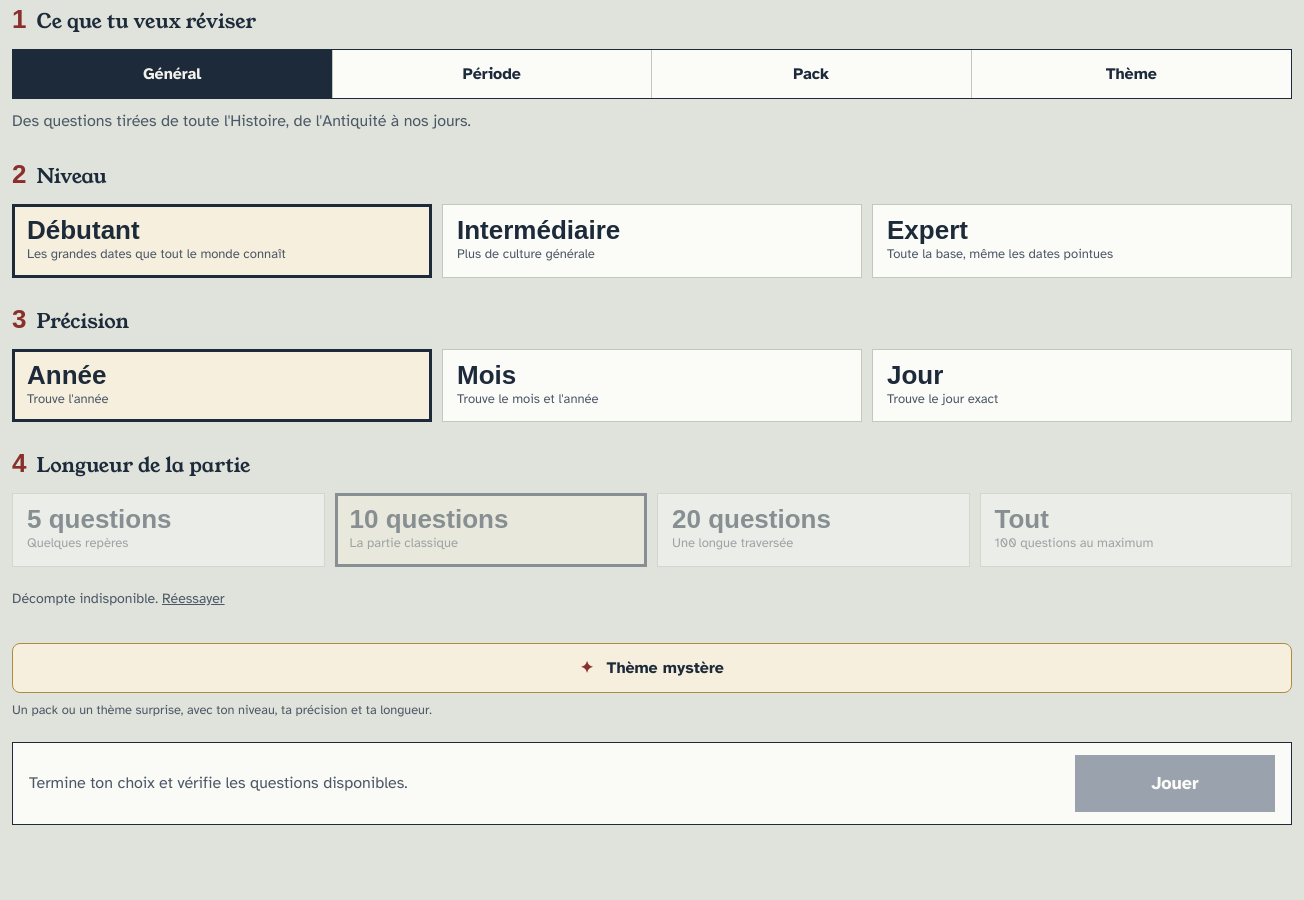
it: une lecture impossible n'affiche aucun nombre fictif et peut être relancée
Check: the message "Décompte indisponible. Réessayer" is shown, box [12, 576, 225, 620]
Check: the button "Jouer" is disabled, box [1075, 755, 1275, 812]
Click the button "Réessayer": (193,598) [162, 576, 225, 620]
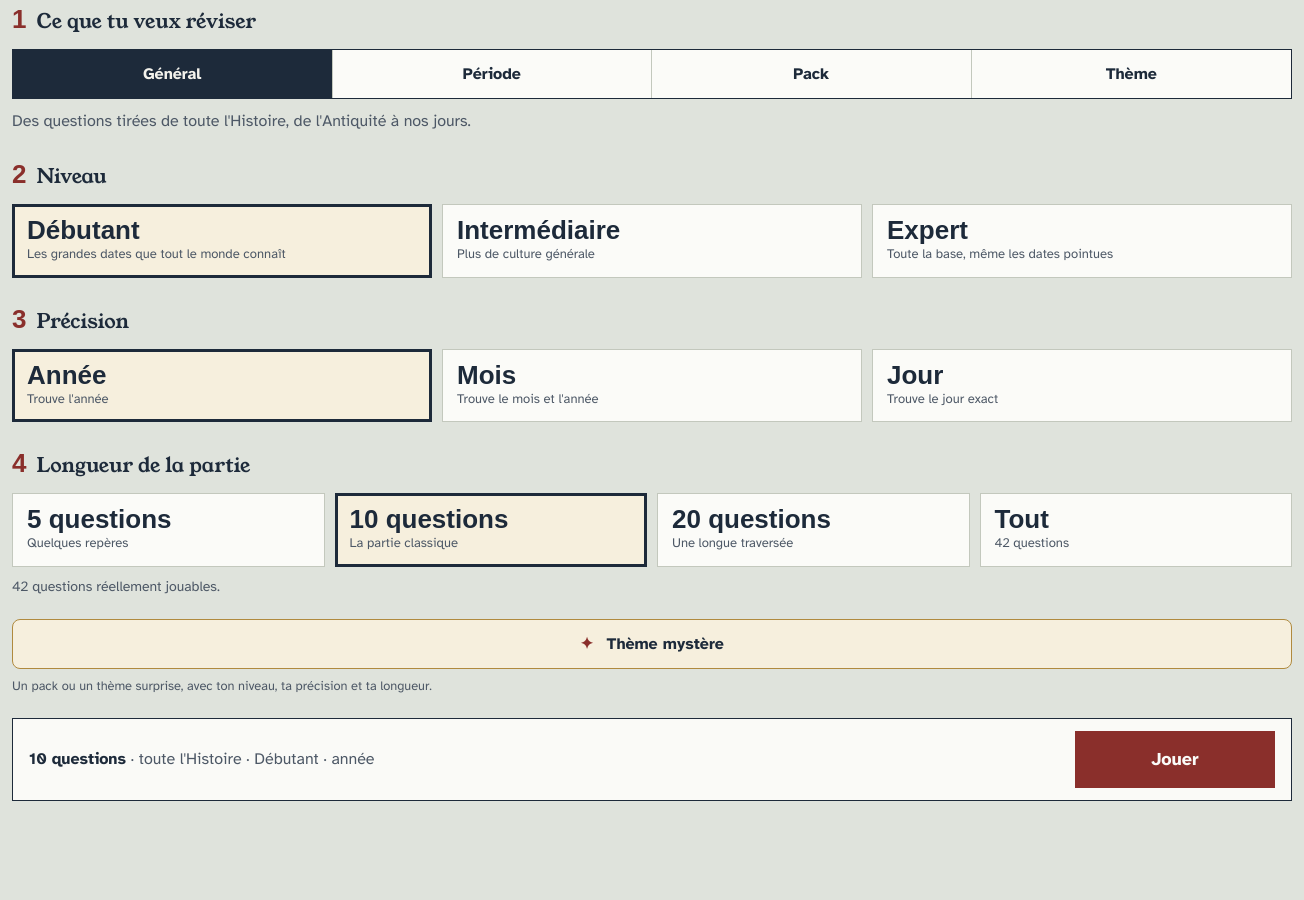
Check: the text "42 questions réellement jouables." is shown, box [12, 578, 220, 594]
